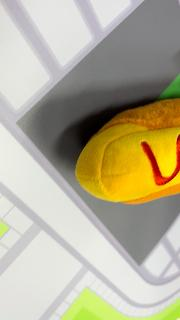hotdog: (74, 98, 180, 204)
